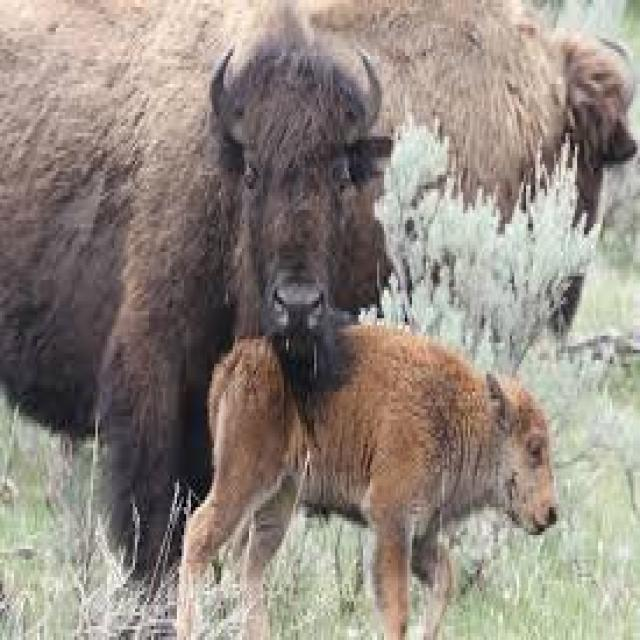Bison: (3, 1, 394, 602)
